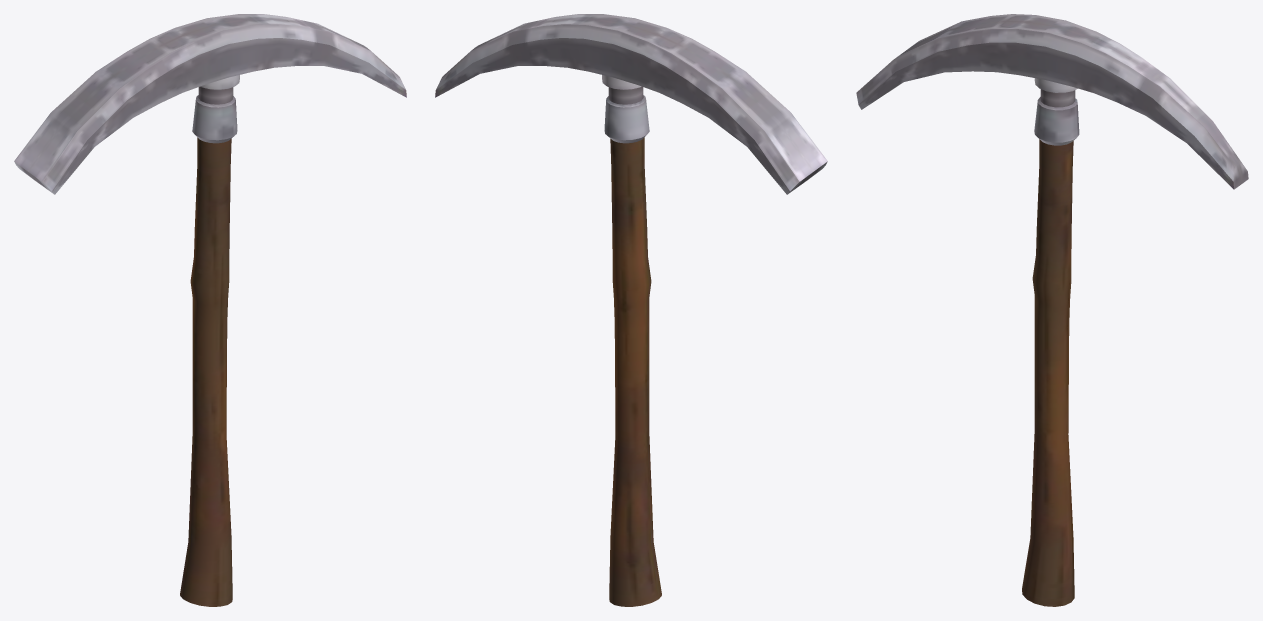
File: miner_pickaxe.glb
The picture shows the model from 3 angles, left to right: view 1: azimuth 30°, elevation 25°; view 2: azimuth 150°, elevation 25°; view 3: azimuth 330°, elevation 25°; orthographic projection.
Visible parts, largest first — view 1: miner_pickaxe; view 2: miner_pickaxe; view 3: miner_pickaxe.
Boxes of the visible parts, bbox=[...] form: miner_pickaxe: bbox=[14, 14, 406, 606]; miner_pickaxe: bbox=[435, 14, 827, 606]; miner_pickaxe: bbox=[856, 14, 1248, 606].
Bounding box in the file's own units: 0.6244 × 0.92 × 0.1042.
Materials: 1 (1 with a texture image).
